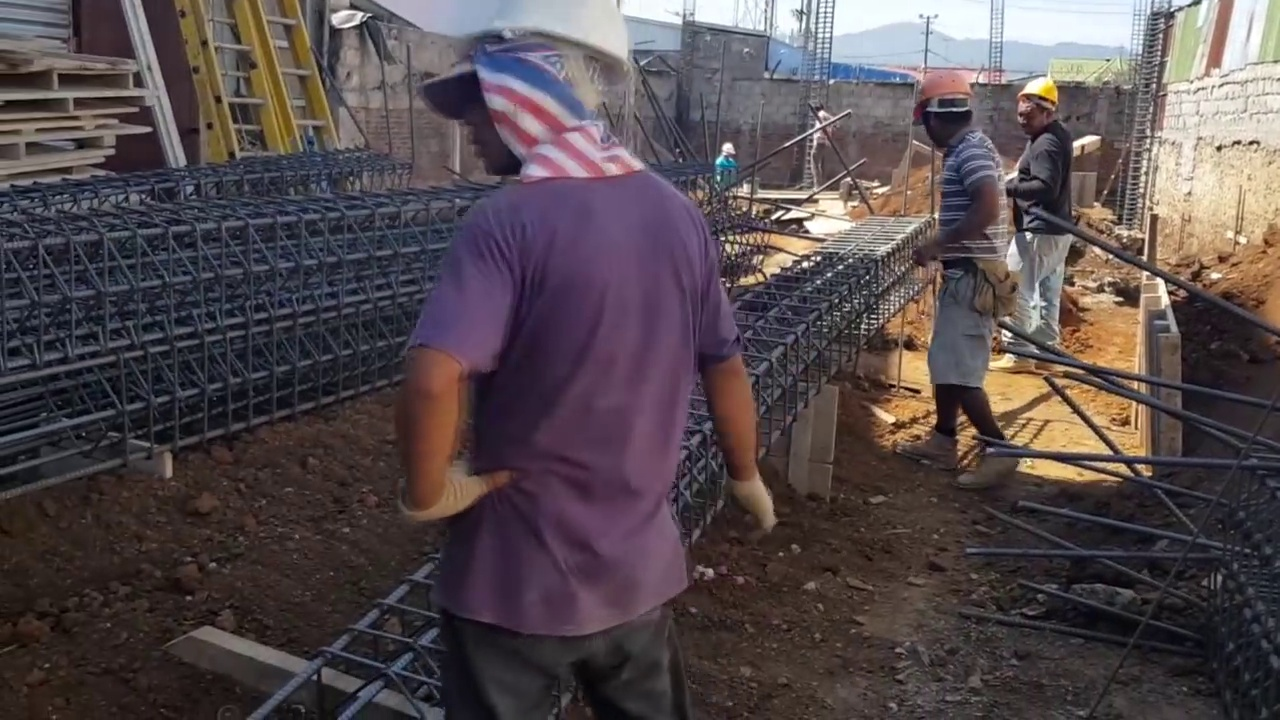helmet: (396, 3, 636, 70), (911, 67, 976, 127), (1014, 73, 1060, 105), (721, 143, 736, 155)
helmet-off: (808, 100, 824, 116)
helmet-on: (368, 0, 629, 213), (913, 67, 975, 150), (1015, 72, 1061, 139), (719, 143, 736, 162)
person: (369, 0, 775, 719), (909, 66, 1023, 462), (1005, 70, 1086, 360), (807, 99, 838, 191), (714, 142, 736, 187)
